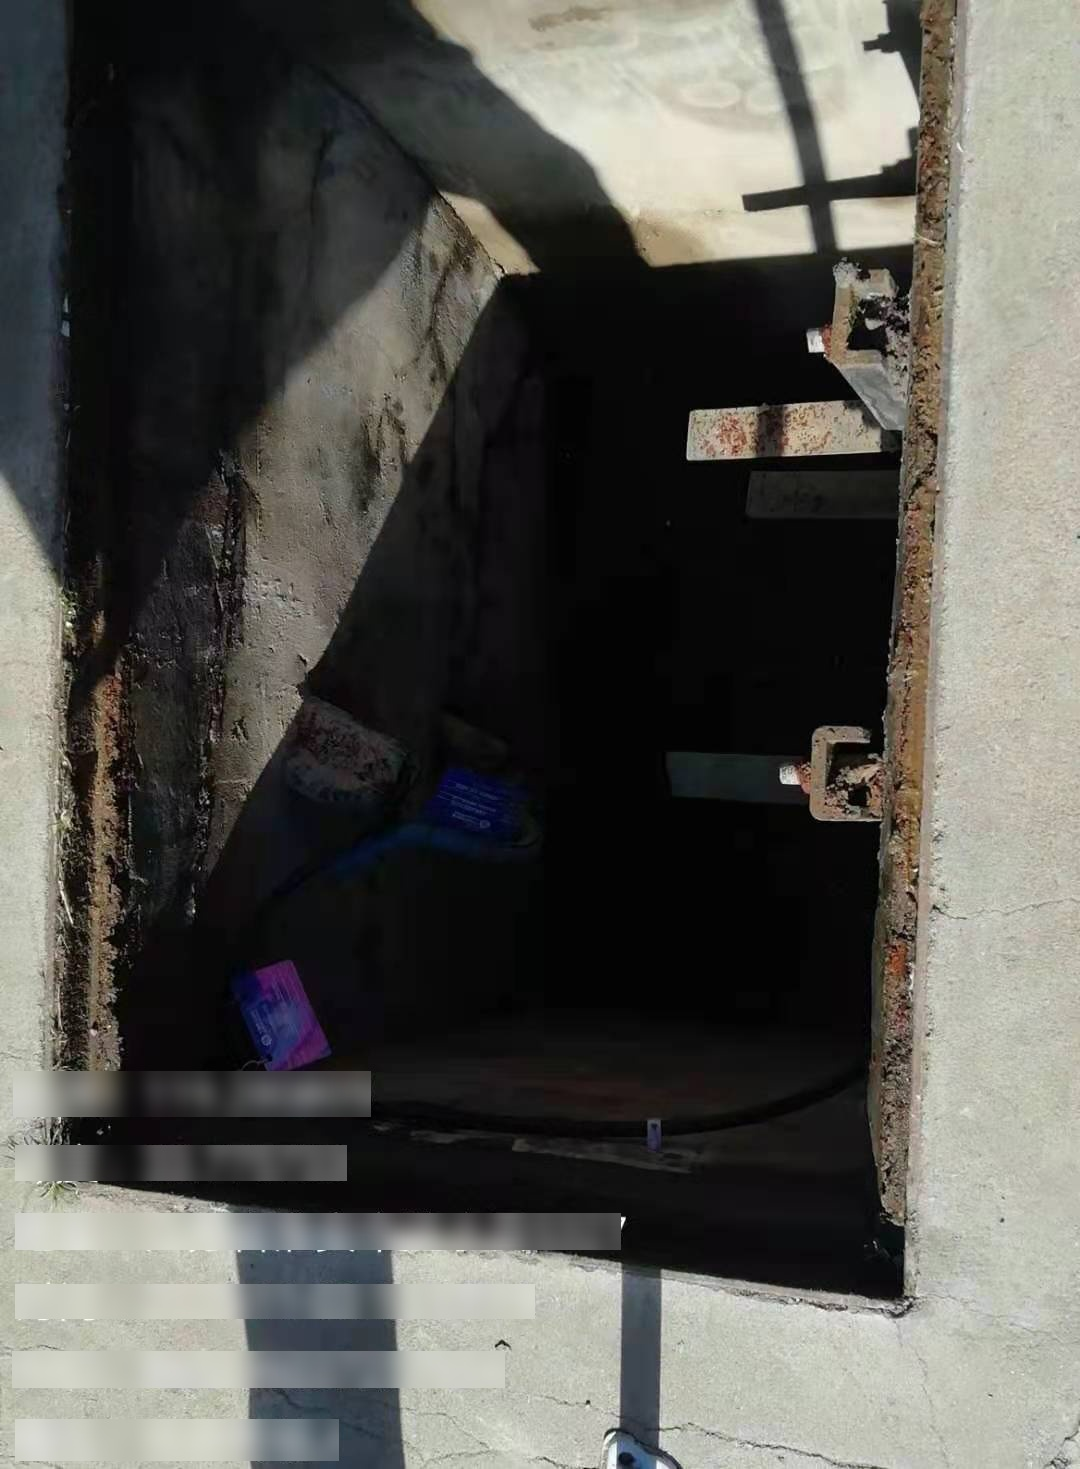lose: (30, 1, 961, 1330)
